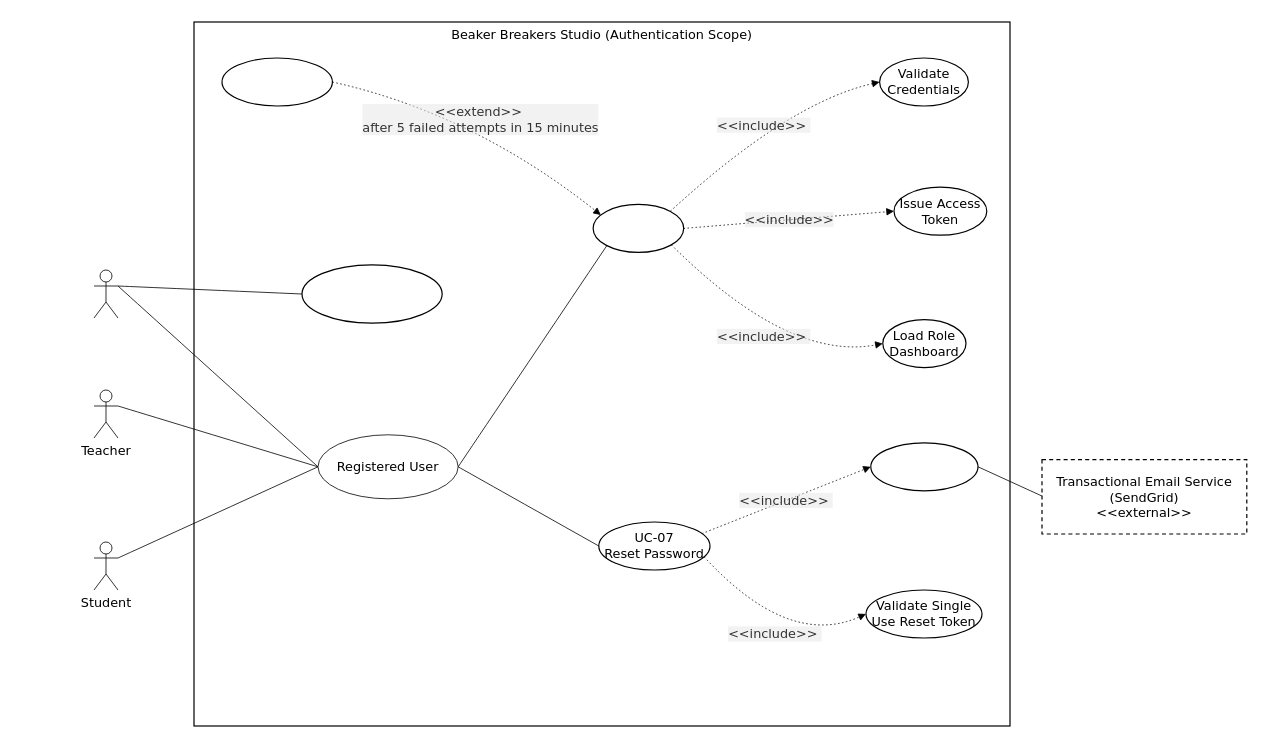
Image size: 1261x740. Some labels were removed from this diagram. Here are the shapes that lost their labels. From the top down, the box of each, then its label:
(221, 57, 333, 106): Refuse Further Login Attempts
(592, 203, 684, 253): UC-01 Log In
(93, 269, 118, 318): Administrator
(301, 264, 442, 323): UC-17 Manage User Accounts
(870, 442, 978, 491): Send Password Reset Email
